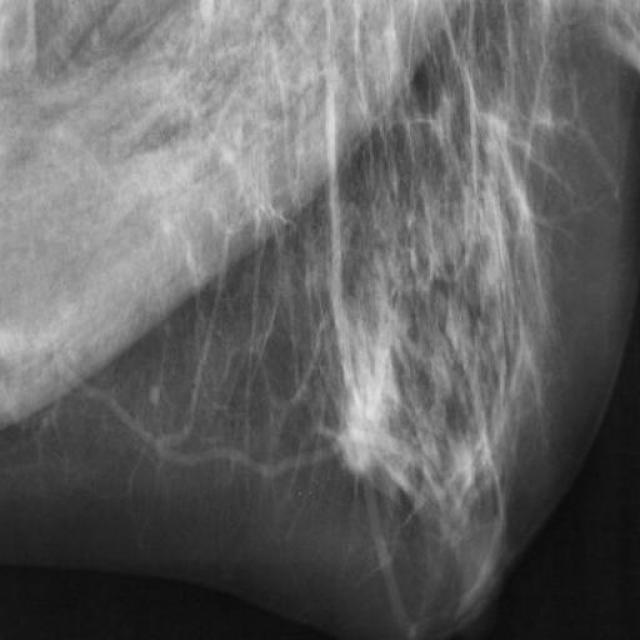cancer: (328, 364, 398, 506)
